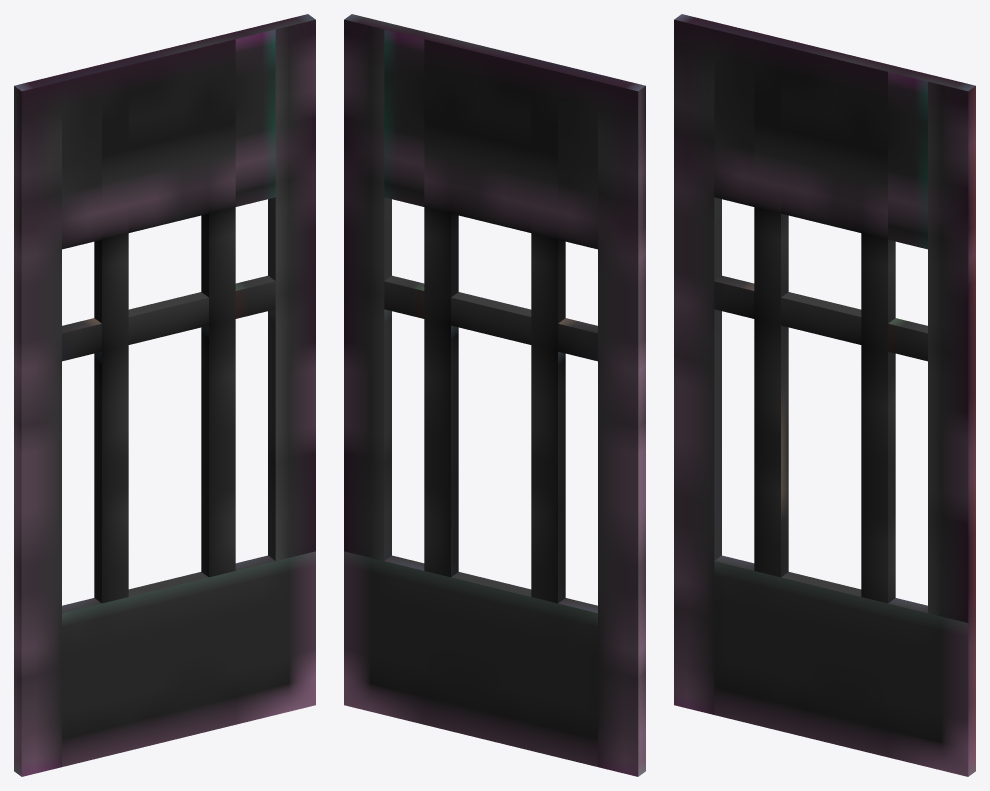
Rendered from Door_D_00.fbx.
3 renders of one model, left to right at view 1: azimuth 30°, elevation 25°; view 2: azimuth 150°, elevation 25°; view 3: azimuth 330°, elevation 25°, orthographic.
Parts seen in each view (by area): view 1: Door_D_00; view 2: Door_D_00; view 3: Door_D_00.
Part boxes in pixels (x1,y1,x2,y2): Door_D_00: (14, 14, 315, 776); Door_D_00: (344, 14, 645, 776); Door_D_00: (674, 14, 975, 776).
Bounding box in the file's own units: 110 × 245 × 5.
